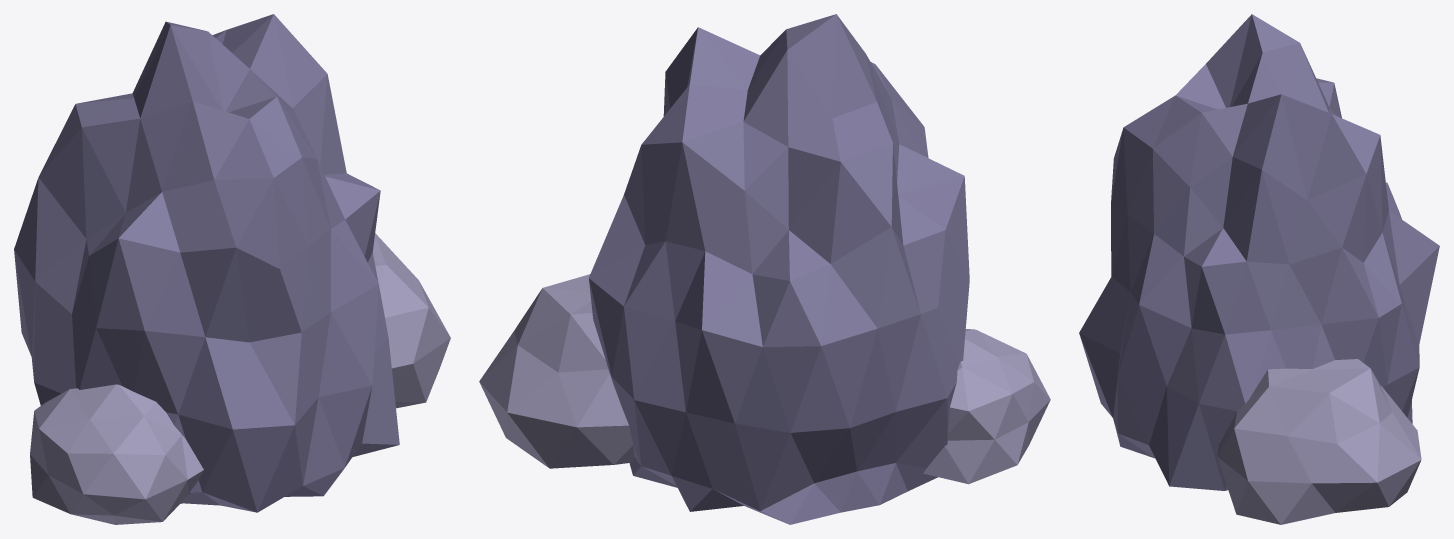
The model's file is rock_c.glb.
The picture shows the model from 3 angles, left to right: view 1: azimuth 30°, elevation 25°; view 2: azimuth 150°, elevation 25°; view 3: azimuth 270°, elevation 25°; orthographic projection. The views are drawn at different scales.
Visible parts, largest first — view 1: rock_c; view 2: rock_c; view 3: rock_c.
Part boxes in pixels (left/top/right/bottom): rock_c: left=14, top=14, right=450, bottom=524; rock_c: left=479, top=14, right=1050, bottom=524; rock_c: left=1079, top=14, right=1439, bottom=524.
Size of the model in its own units: 2.78 by 2.62 by 2.16.
